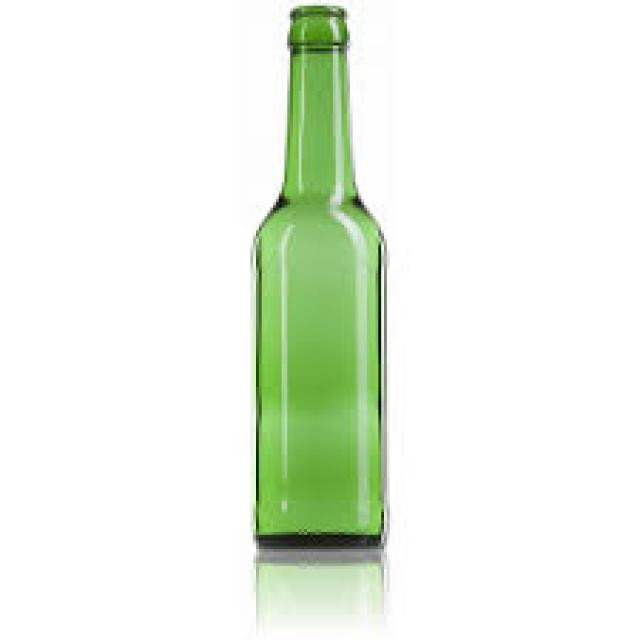glass: (250, 3, 387, 546)
